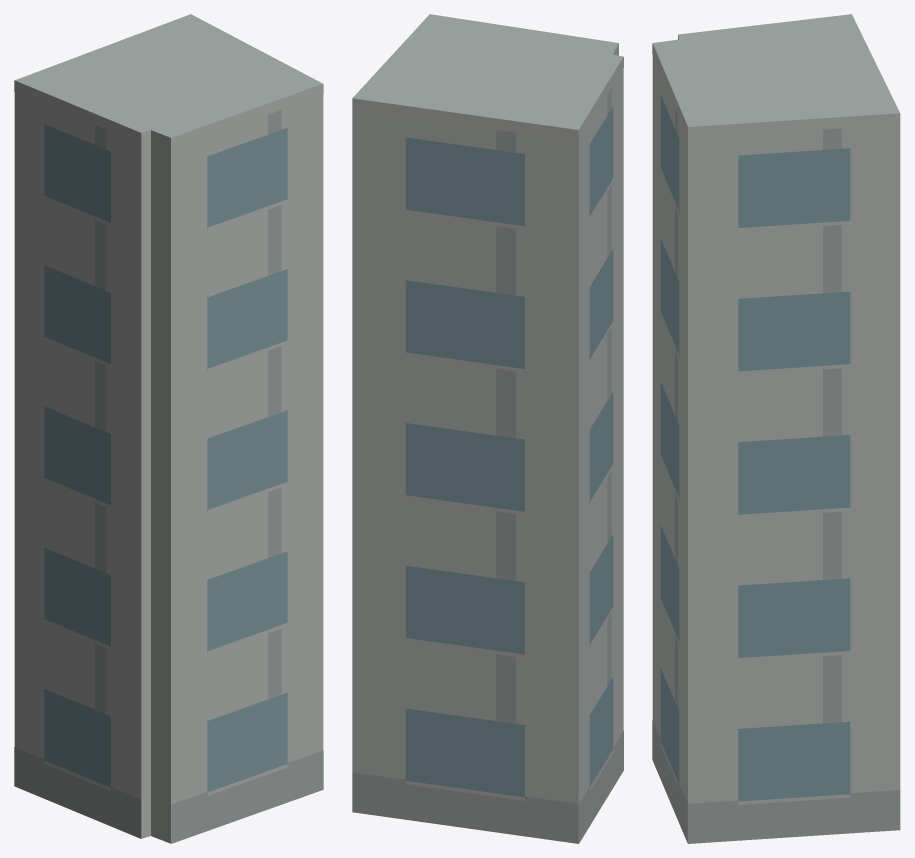
The model's file is survey-upis-32783389.glb.
3 views of the same model, side by side, from view 1: azimuth 30°, elevation 25°; view 2: azimuth 150°, elevation 25°; view 3: azimuth 270°, elevation 25° (orthographic).
Parts seen in each view (by area): view 1: survey-upis-32783389.tmp; view 2: survey-upis-32783389.tmp; view 3: survey-upis-32783389.tmp.
Part boxes in pixels (x1,y1,x2,y2): survey-upis-32783389.tmp: (14, 14, 323, 843); survey-upis-32783389.tmp: (352, 14, 623, 843); survey-upis-32783389.tmp: (652, 14, 900, 843).
Bounding box in the file's own units: 5.17 × 15.25 × 4.79.
